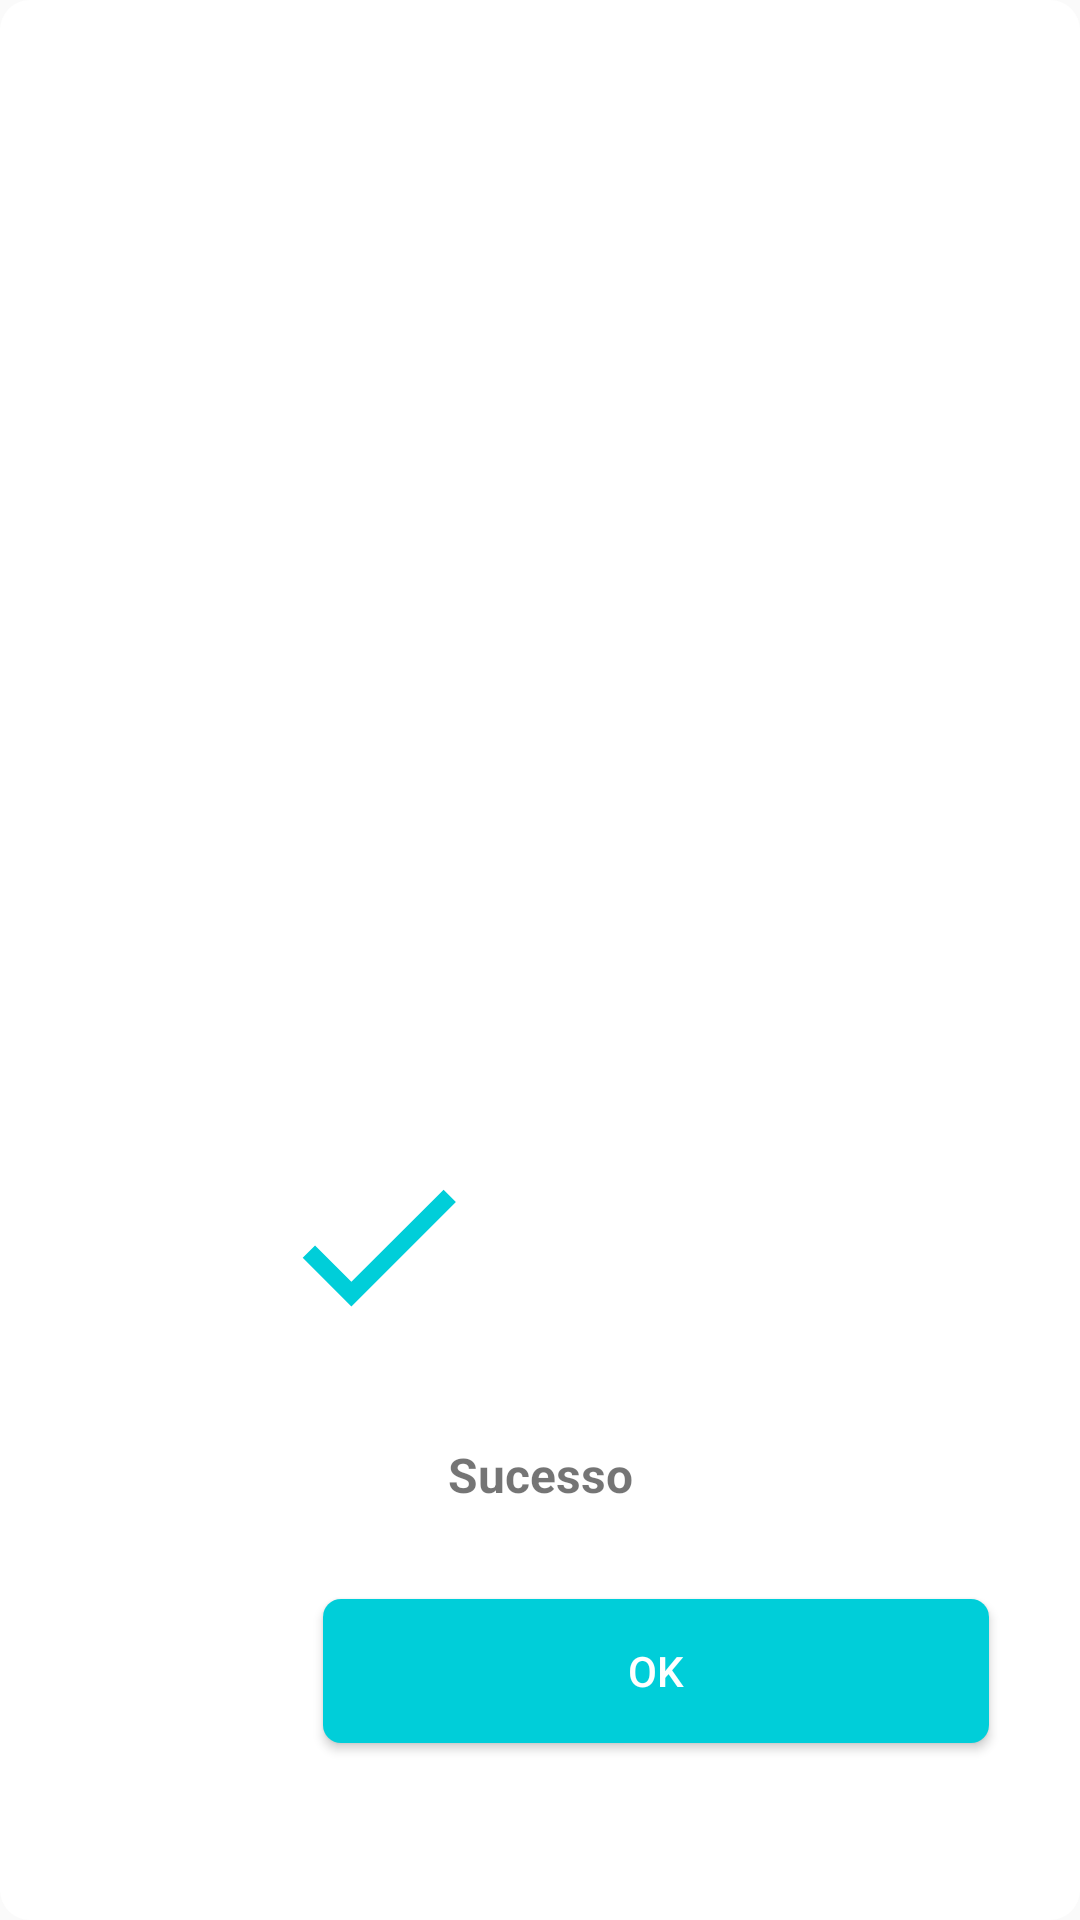

Locate icon controls on the screen. Image size 1080px x 1920px, boxes as (x1, y1, x2, y2).
check: (303, 1190, 456, 1307)
